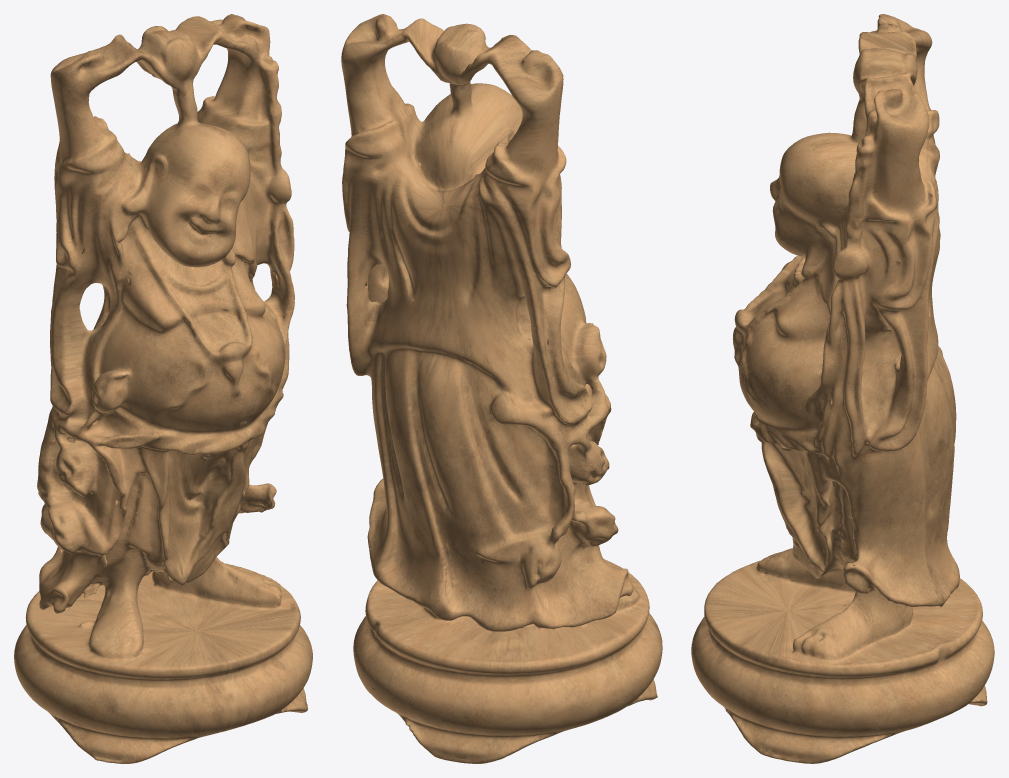
Rendered from happy.obj.
The picture shows the model from 3 angles, left to right: view 1: azimuth 30°, elevation 25°; view 2: azimuth 150°, elevation 25°; view 3: azimuth 270°, elevation 25°; orthographic projection. The views are drawn at different scales.
Visible parts, largest first — view 1: happy; view 2: happy; view 3: happy.
Boxes of the visible parts, x1=… form: happy: x1=14, y1=14, x2=312, y2=763; happy: x1=341, y1=14, x2=662, y2=763; happy: x1=691, y1=14, x2=994, y2=763.
Size of the model in its own units: 0.6329 by 1.54 by 0.6335.
Materials: 1 (1 with a texture image).
